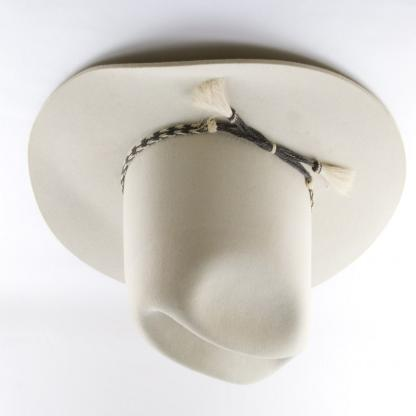hat: (23, 46, 410, 388)
